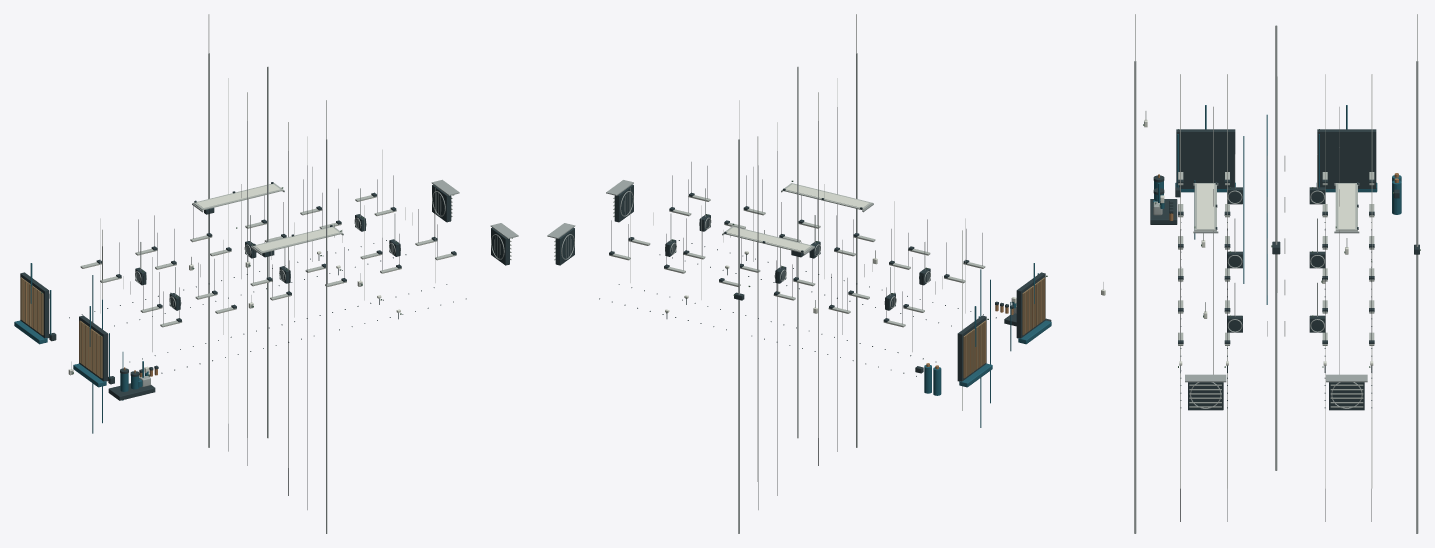
Rendered from greenhouse-equipment.glb.
3 views of the same model, side by side, from view 1: azimuth 30°, elevation 25°; view 2: azimuth 150°, elevation 25°; view 3: azimuth 270°, elevation 25° (orthographic). The views are drawn at different scales.
Visible parts, largest first — view 1: LED horticulture extrusion, Side roll-up film shaft, CO2 cross header, LED suspension cable, Bed dripline, Corrugated cellulose channel.001, Corrugated cellulose channel.039, Shade cable guide, Service skid, Shade drive shaft, Cooling pad outer frame, Cooling pad outer frame.001 (+3 smaller); view 2: LED horticulture extrusion, Side roll-up film shaft, Bed dripline, LED suspension cable, Corrugated cellulose channel.001, Corrugated cellulose channel.039, CO2 cross header, Shade cable guide, Shade drive shaft; view 3: Cooling pad outer frame.001, Cooling pad outer frame, Side roll-up film shaft, CO2 cross header, LED horticulture extrusion, Shade drive shaft, Screen filter vessel, Fan powder-coated shroud, Fan powder-coated shroud.001, Roof vent polycarbonate infill, Roof vent polycarbonate infill.001, Service skid (+9 smaller).
Part boxes in pixels (bbox=[...]): LED horticulture extrusion: bbox=[80, 195, 456, 327]; Side roll-up film shaft: bbox=[208, 53, 327, 533]; CO2 cross header: bbox=[102, 78, 307, 467]; LED suspension cable: bbox=[102, 175, 437, 323]; Bed dripline: bbox=[228, 121, 307, 509]; Corrugated cellulose channel.001: bbox=[21, 278, 42, 334]; Corrugated cellulose channel.039: bbox=[80, 321, 101, 377]; Shade cable guide: bbox=[100, 149, 435, 351]; Service skid: bbox=[69, 240, 466, 400]; Shade drive shaft: bbox=[267, 66, 268, 438]; Cooling pad outer frame: bbox=[20, 272, 56, 341]; Cooling pad outer frame.001: bbox=[79, 315, 114, 384]; LED horticulture extrusion: bbox=[609, 195, 985, 327]; Side roll-up film shaft: bbox=[738, 53, 857, 533]; Bed dripline: bbox=[758, 107, 837, 509]; LED suspension cable: bbox=[611, 162, 982, 323]; Corrugated cellulose channel.001: bbox=[965, 321, 986, 377]; Corrugated cellulose channel.039: bbox=[1024, 278, 1045, 334]; CO2 cross header: bbox=[757, 78, 962, 481]; Shade cable guide: bbox=[630, 167, 965, 351]; Shade drive shaft: bbox=[797, 66, 798, 438]; Cooling pad outer frame.001: bbox=[1175, 129, 1235, 197]; Cooling pad outer frame: bbox=[1317, 129, 1376, 188]; Side roll-up film shaft: bbox=[1134, 61, 1418, 533]; CO2 cross header: bbox=[1180, 74, 1372, 488]; LED horticulture extrusion: bbox=[1178, 172, 1374, 345]; Shade drive shaft: bbox=[1275, 25, 1277, 470]; Screen filter vessel: bbox=[1153, 114, 1267, 304]; Fan powder-coated shroud: bbox=[1329, 382, 1364, 410]; Fan powder-coated shroud.001: bbox=[1188, 382, 1223, 410]; Roof vent polycarbonate infill: bbox=[1338, 184, 1355, 229]; Roof vent polycarbonate infill.001: bbox=[1197, 184, 1214, 229]; Service skid: bbox=[1150, 175, 1372, 408].
Bounding box in the file's own units: 29.67 × 26.39 × 13.18.
